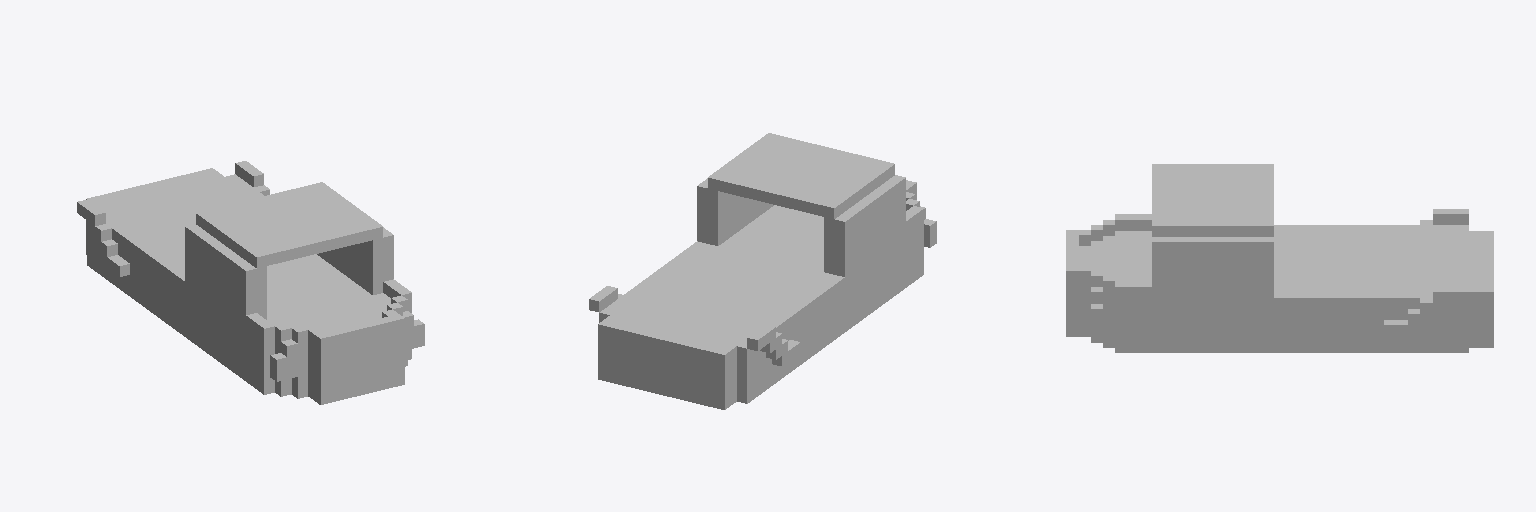
The model's file is Zapilette1.obj.
3 renders of one model, left to right at view 1: azimuth 30°, elevation 25°; view 2: azimuth 150°, elevation 25°; view 3: azimuth 270°, elevation 25°, orthographic.
Parts seen in each view (by area): view 1: object 1; view 2: object 1; view 3: object 1.
Part boxes in pixels (bbox=[...]): object 1: bbox=[77, 161, 424, 404]; object 1: bbox=[589, 133, 936, 409]; object 1: bbox=[1066, 164, 1493, 352].
Size of the model in its own units: 1.6 by 1.1 by 3.5.